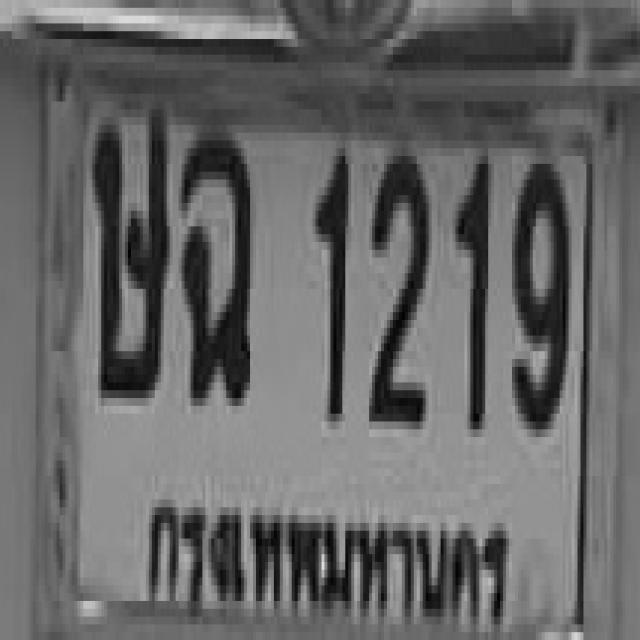1: (453, 148, 488, 422), (313, 148, 345, 414)
18ChorChing: (179, 125, 250, 398)
2: (366, 148, 426, 422)
48SorRueSi: (89, 102, 167, 390)
9: (509, 156, 566, 422)
Bangkok: (138, 478, 523, 640)
